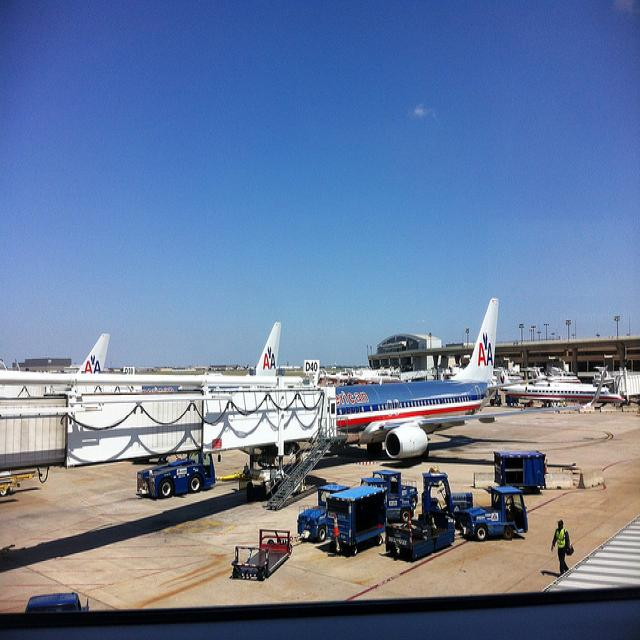Vehicle: (231, 484, 350, 581), (385, 472, 457, 562), (325, 484, 389, 558), (462, 480, 528, 542), (135, 453, 215, 498), (25, 590, 91, 610)
